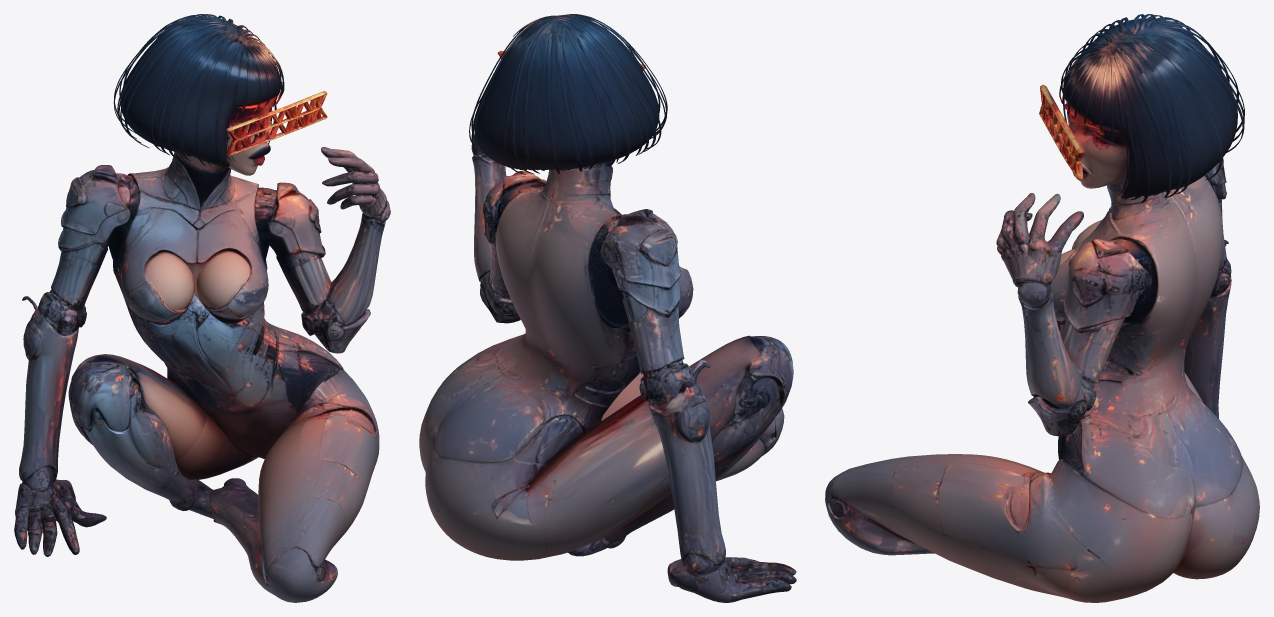
3 views of the same model, side by side, from view 1: azimuth 30°, elevation 25°; view 2: azimuth 150°, elevation 25°; view 3: azimuth 270°, elevation 25° (orthographic). The views are drawn at different scales.
Visible parts, largest first — view 1: material; view 2: material; view 3: material.
Boxes of the visible parts, bbox=[...] form: material: bbox=[14, 14, 390, 602]; material: bbox=[419, 14, 796, 602]; material: bbox=[825, 14, 1259, 602].
Size of the model in its own units: 0.6985 by 0.9556 by 0.7034.
1 material, 1 textured.
